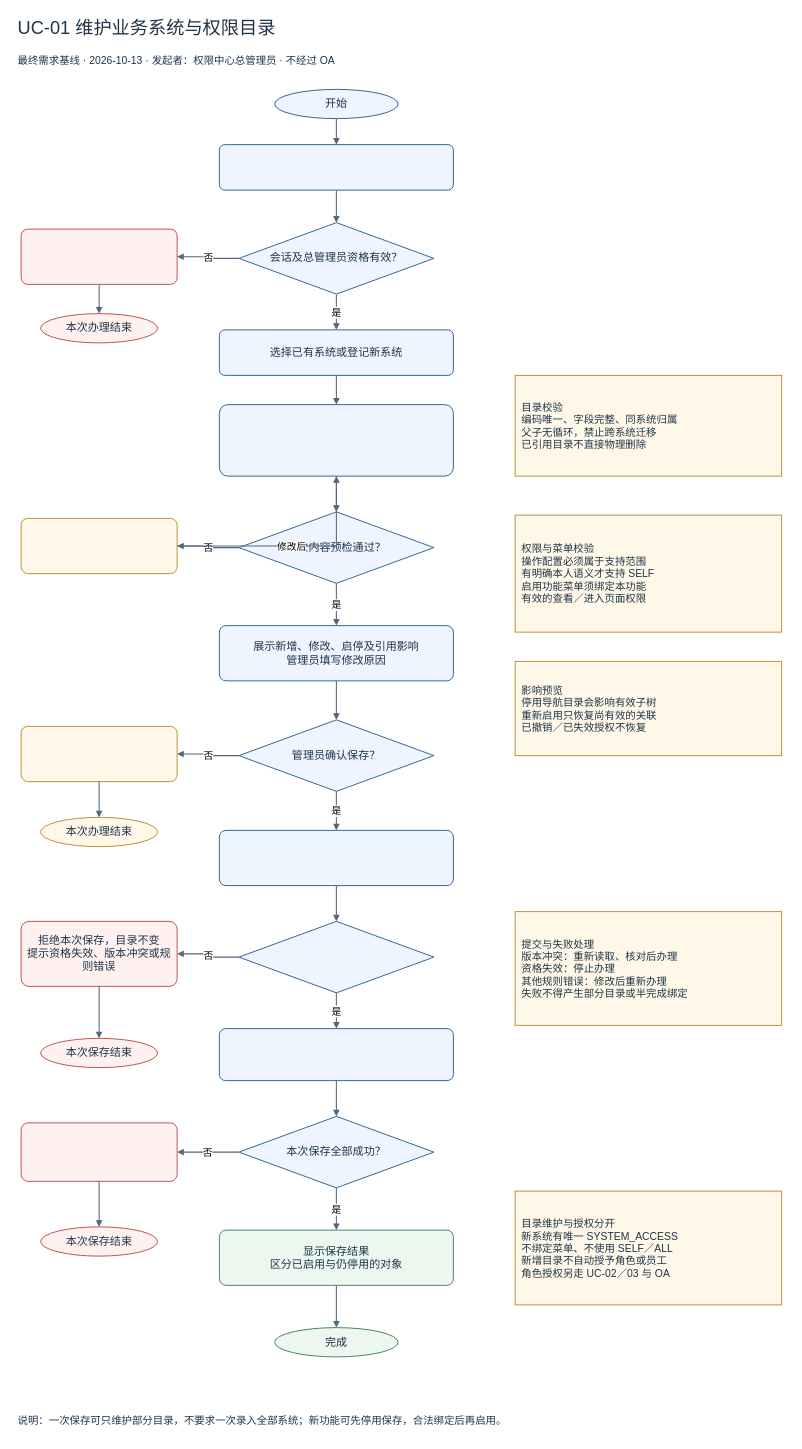
This 802x1449 diagram has some shape labels left out. Here are the shapes that lost their labels. From the top down, the centre of each, then its label:
At point (336, 167): "已登录管理员打开目录维护".
At point (98, 256): "拒绝维护 不读取或修改目录".
At point (336, 440): "维护本次需要变更的内容 系统、导航／功能菜单、操作、可见条件 操作支持范围、启停状态".
At point (98, 546): "显示问题字段及原因 修改本次输入".
At point (98, 754): "取消本次未提交变更 原目录保持不变".
At point (336, 858): "提交时重新检查 管理员资格、版本和目录规则".
At point (336, 957): "提交时复核通过？".
At point (336, 1054): "整体保存目录变更、版本和成功审计".
At point (98, 1152): "本次事务整体回滚 报告保存失败，不显示成功".
